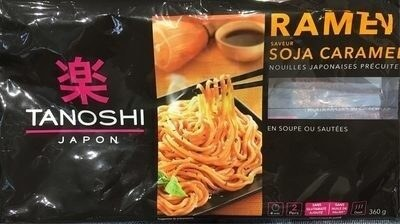Ramen soja caramel: (20, 11, 380, 213)
